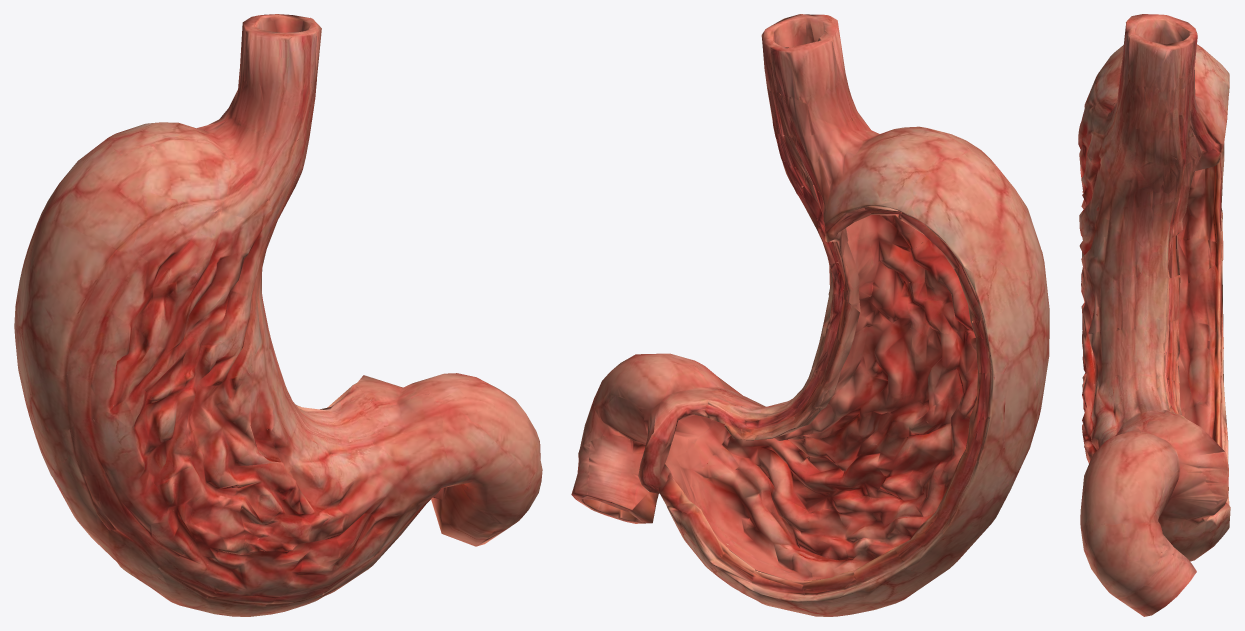
Rendered from stomach.glb.
The picture shows the model from 3 angles, left to right: view 1: azimuth 30°, elevation 25°; view 2: azimuth 150°, elevation 25°; view 3: azimuth 270°, elevation 25°; orthographic projection. The views are drawn at different scales.
Visible parts, largest first — view 1: human-stomach; view 2: human-stomach; view 3: human-stomach.
Boxes of the visible parts, bbox=[...] form: human-stomach: bbox=[14, 14, 542, 616]; human-stomach: bbox=[571, 14, 1049, 616]; human-stomach: bbox=[1078, 14, 1230, 616].
Bounding box in the file's own units: 0.2403 × 0.2799 × 0.0731.
1 material, 1 textured.
